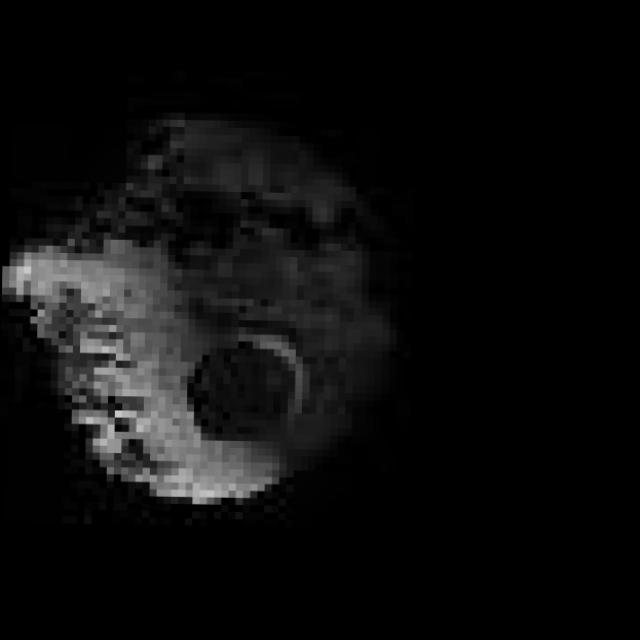Death Star: (4, 102, 413, 520)
